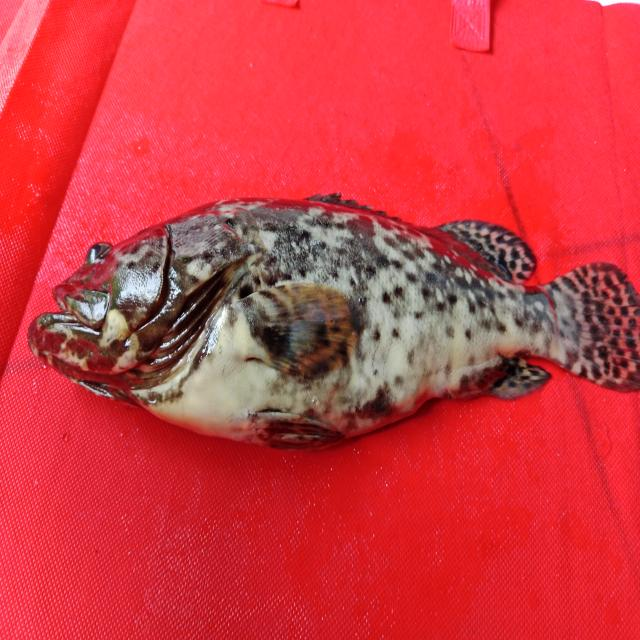ikan: (26, 190, 638, 452)
